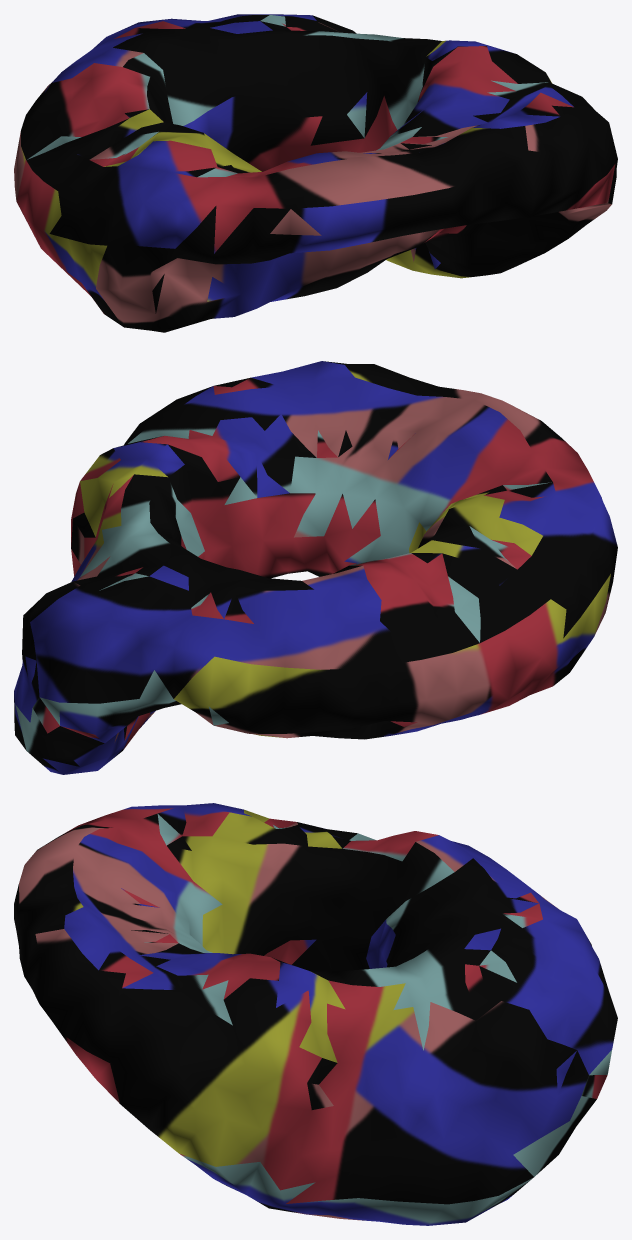
Rendered from graffiti.gltf.
The picture shows the model from 3 angles, top to bottom: view 1: azimuth 30°, elevation 25°; view 2: azimuth 150°, elevation 25°; view 3: azimuth 270°, elevation 25°; orthographic projection. The views are drawn at different scales.
Visible parts, largest first — view 1: Torus; view 2: Torus; view 3: Torus.
Boxes of the visible parts, x1=… form: Torus: x1=14, y1=14, x2=617, y2=332; Torus: x1=14, y1=361, x2=617, y2=774; Torus: x1=14, y1=803, x2=617, y2=1225.
Size of the model in its own units: 2.88 by 1.5 by 3.06.
1 material, 1 textured.
